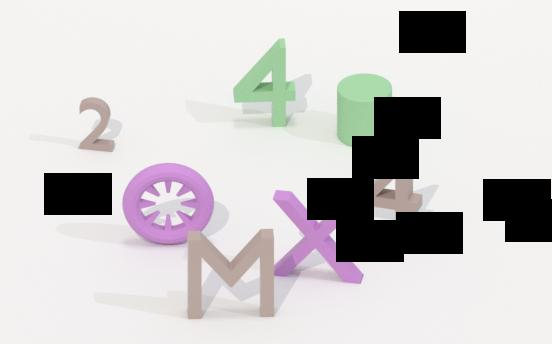2: (77, 93, 117, 156)
4: (231, 34, 301, 132), (357, 142, 426, 240)
M-hoa: (186, 227, 278, 322)
tron: (122, 160, 217, 247)
tru: (334, 69, 396, 150)
x: (267, 180, 371, 293)
